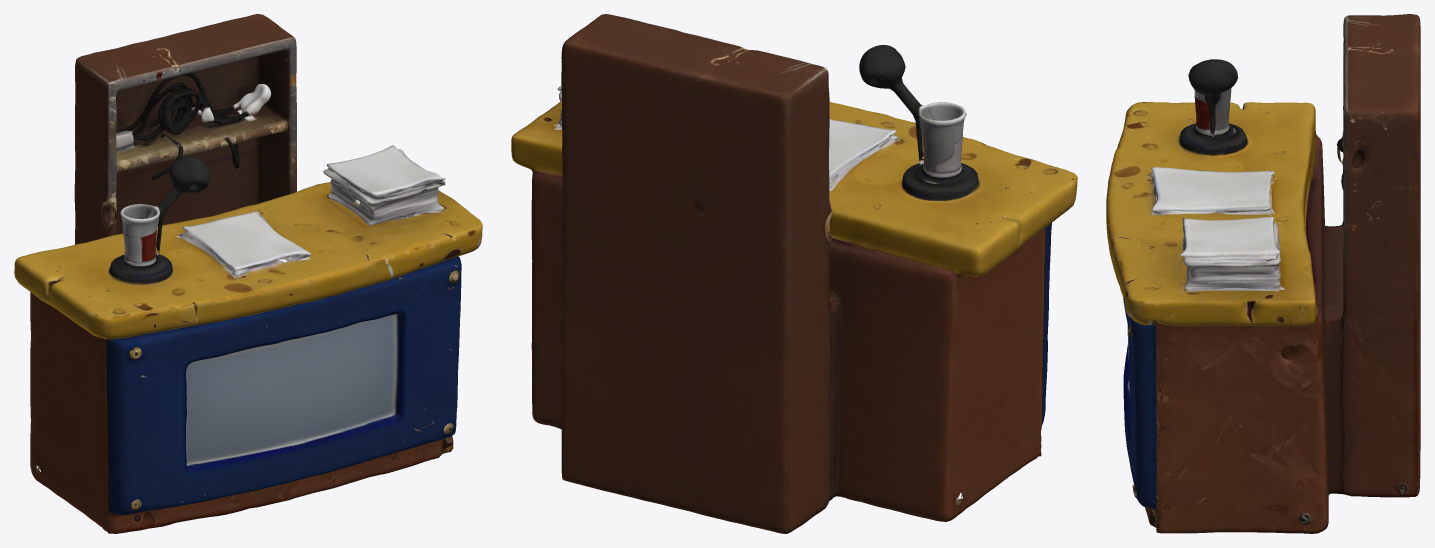
The model's file is g67_news_desk.glb.
The picture shows the model from 3 angles, left to right: view 1: azimuth 30°, elevation 25°; view 2: azimuth 150°, elevation 25°; view 3: azimuth 270°, elevation 25°; orthographic projection. The views are drawn at different scales.
Visible parts, largest first — view 1: tripo_node_b800fff8; view 2: tripo_node_b800fff8; view 3: tripo_node_b800fff8.
Boxes of the visible parts, x1,y1,x2,y2 form: tripo_node_b800fff8: (14,14,482,533); tripo_node_b800fff8: (511,14,1077,533); tripo_node_b800fff8: (1106,14,1420,533).
Size of the model in its own units: 98.01 by 87.89 by 64.36.
Materials: 1 (1 with a texture image).
